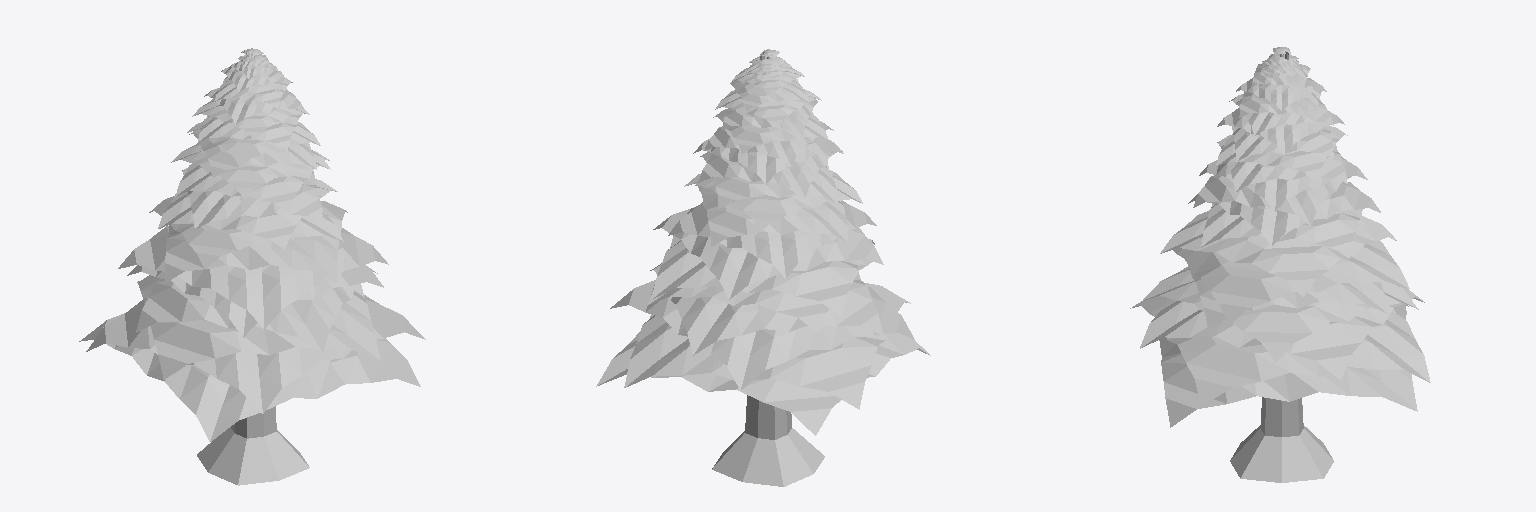
Rendered from game_firtree3.obj.
3 renders of one model, left to right at view 1: azimuth 30°, elevation 25°; view 2: azimuth 150°, elevation 25°; view 3: azimuth 270°, elevation 25°, orthographic.
Parts seen in each view (by area): view 1: Plane.002; view 2: Plane.002; view 3: Plane.002.
Boxes of the visible parts, <box> form: Plane.002: <box>79,48,425,485</box>; Plane.002: <box>596,49,930,486</box>; Plane.002: <box>1130,47,1430,482</box>.
Bounding box in the file's own units: 9.26 × 13.92 × 9.24.